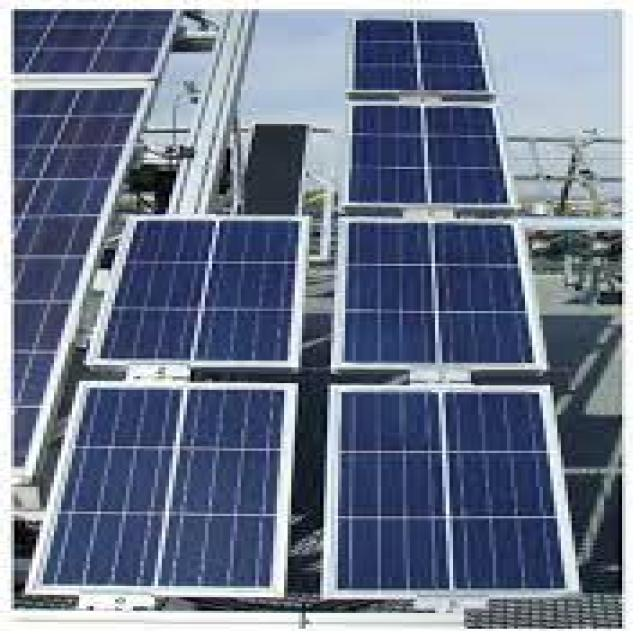no faulty: (334, 391, 567, 599), (67, 384, 280, 598), (134, 212, 303, 366), (352, 227, 532, 365), (344, 110, 514, 204), (357, 21, 483, 96)
